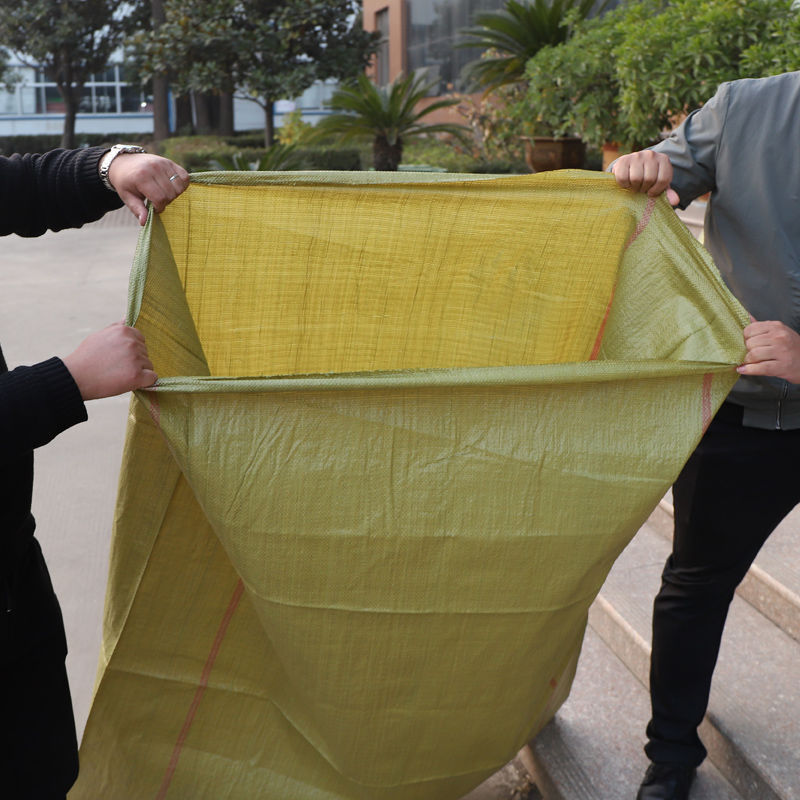Parcel: (74, 173, 730, 799)
